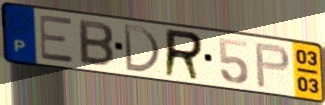5: (217, 36, 249, 86)
B: (77, 18, 116, 70)
D: (121, 22, 163, 76)
E: (37, 14, 77, 65)
P: (253, 41, 293, 90)
R: (162, 26, 206, 83)
